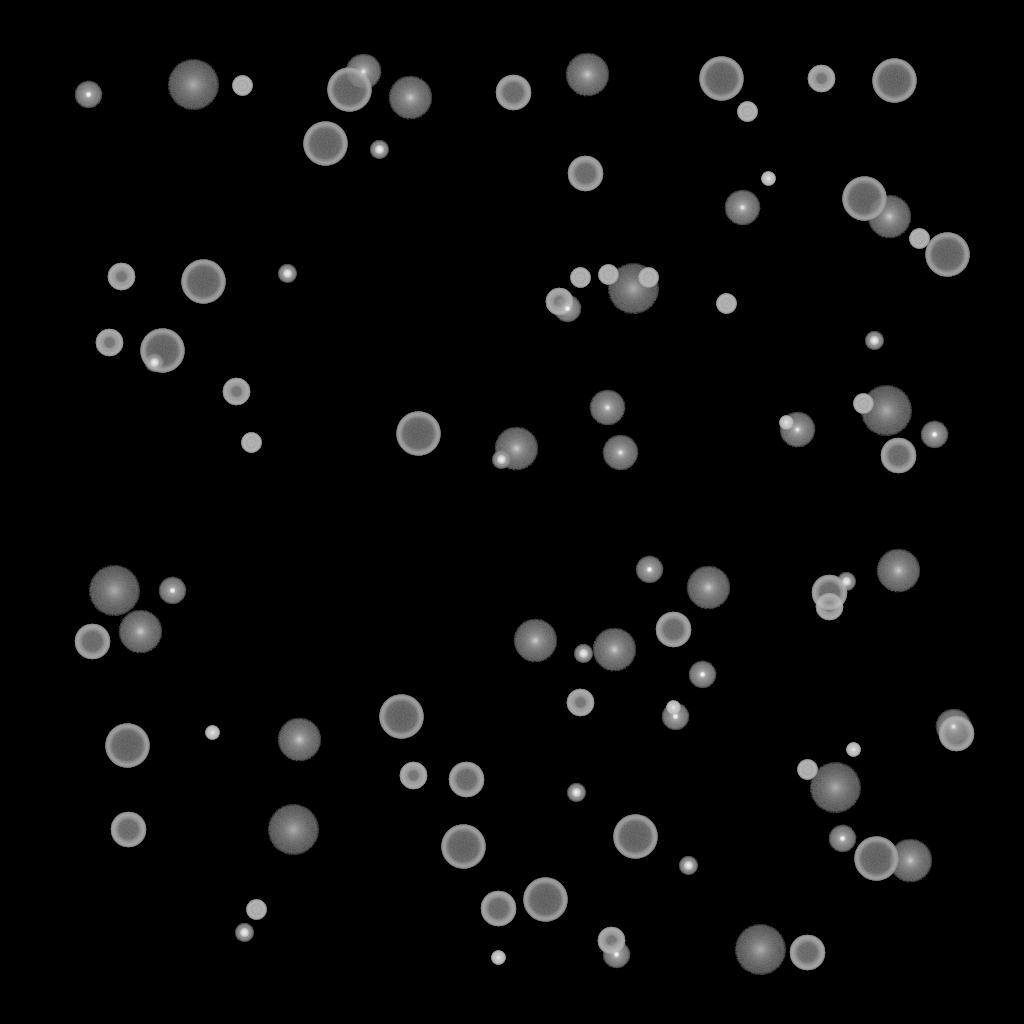depth:-10: (661, 703, 689, 731), (74, 81, 102, 109), (158, 577, 186, 605), (553, 295, 581, 323), (602, 941, 630, 969), (920, 421, 948, 449), (688, 661, 716, 689), (635, 556, 663, 584), (828, 825, 856, 853)
depth:-20: (865, 332, 883, 350), (837, 573, 855, 591), (278, 265, 296, 283), (145, 354, 163, 372), (679, 857, 697, 875), (370, 141, 388, 159), (235, 924, 253, 942), (574, 645, 592, 663), (492, 451, 510, 469), (567, 784, 585, 802)
depth:-30: (666, 701, 680, 715), (761, 172, 775, 186), (491, 951, 505, 965), (779, 416, 793, 430), (846, 743, 860, 757), (205, 726, 219, 740)
depth:-40: (909, 229, 929, 249), (570, 268, 590, 288), (598, 265, 618, 285), (737, 102, 757, 122), (638, 268, 658, 288), (241, 433, 261, 453), (246, 900, 266, 920), (853, 394, 873, 414), (232, 76, 252, 96), (797, 760, 817, 780), (716, 294, 736, 314)
depth:-50: (107, 263, 135, 291), (399, 762, 427, 790), (807, 65, 835, 93), (222, 378, 250, 406), (597, 927, 625, 955), (815, 593, 843, 621), (566, 689, 594, 717), (545, 288, 573, 316), (95, 329, 123, 357)
depth:-60: (567, 156, 603, 192), (495, 75, 531, 111), (480, 891, 516, 927), (789, 935, 825, 971), (448, 762, 484, 798), (811, 575, 847, 611), (938, 716, 974, 752), (880, 438, 916, 474), (74, 624, 110, 660), (655, 612, 691, 648), (110, 812, 146, 848)
depth:-70: (699, 57, 743, 101), (181, 260, 225, 304), (613, 815, 657, 859), (523, 878, 567, 922), (441, 825, 485, 869), (379, 695, 423, 739), (303, 122, 347, 166), (925, 233, 969, 277), (140, 329, 184, 373), (872, 59, 916, 103), (842, 177, 886, 221), (396, 412, 440, 456), (327, 68, 371, 112), (105, 724, 149, 768), (854, 837, 898, 881)
depth:0: (779, 412, 815, 448), (935, 709, 971, 745), (724, 190, 760, 226), (602, 435, 638, 471), (589, 390, 625, 426), (345, 54, 381, 90)
depth:10: (592, 628, 636, 672), (494, 427, 538, 471), (565, 53, 609, 97), (888, 839, 932, 883), (118, 610, 162, 654), (686, 566, 730, 610), (513, 619, 557, 663), (867, 195, 911, 239), (876, 549, 920, 593), (277, 718, 321, 762), (388, 76, 432, 120)
depth:20: (734, 925, 786, 975), (88, 566, 140, 616), (607, 264, 659, 314), (167, 60, 219, 110), (809, 763, 861, 813), (860, 386, 912, 436), (267, 805, 319, 855)
